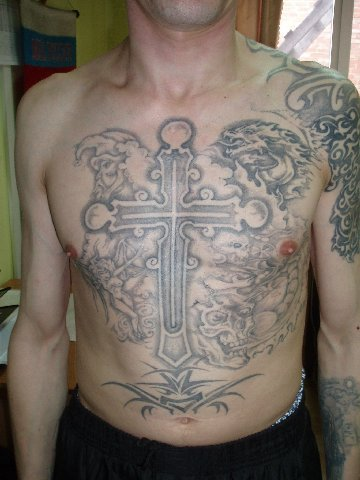tatu6_drakon: (216, 105, 308, 193)
tatu9_krest: (86, 116, 269, 375)
